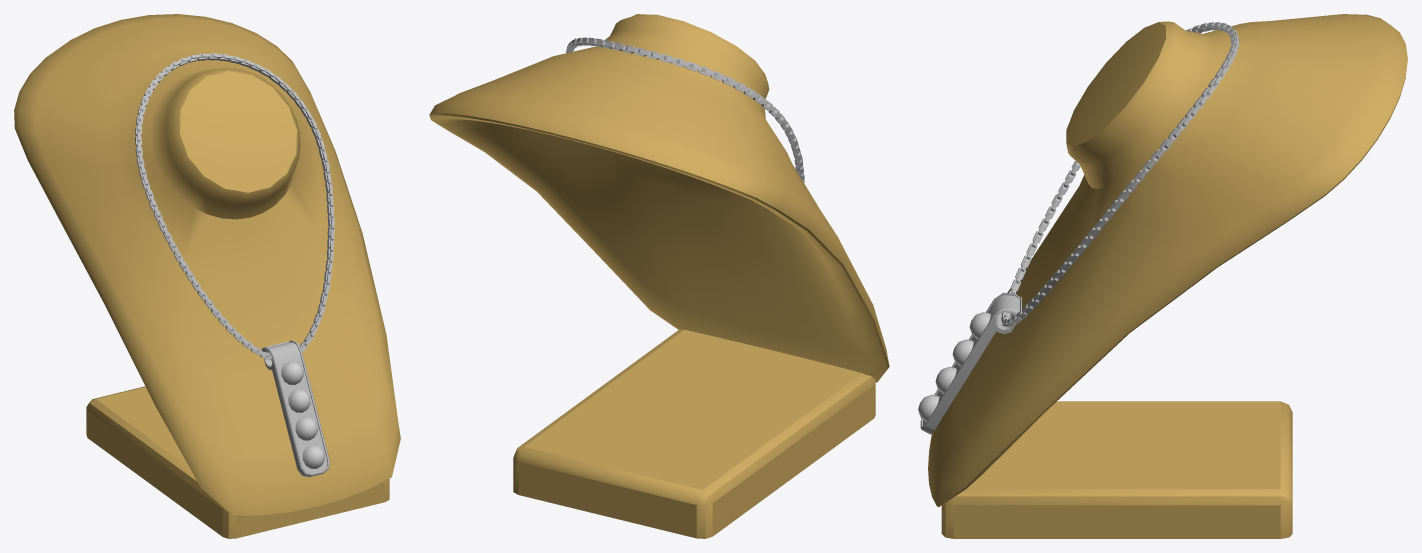
File: Necklace_16.fbx
3 renders of one model, left to right at view 1: azimuth 30°, elevation 25°; view 2: azimuth 150°, elevation 25°; view 3: azimuth 270°, elevation 25°, orthographic. The views are drawn at different scales.
Parts seen in each view (by area): view 1: SM_Stand_Necklace_11, SM_Necklace_12, SM_Cullon_4; view 2: SM_Stand_Necklace_11, SM_Necklace_12; view 3: SM_Stand_Necklace_11, SM_Necklace_12, SM_Cullon_4.
Boxes of the visible parts, box(x1,y1,x2,y2) form: SM_Stand_Necklace_11: box(14, 14, 400, 538); SM_Necklace_12: box(135, 53, 334, 361); SM_Cullon_4: box(261, 340, 329, 477); SM_Stand_Necklace_11: box(429, 14, 889, 538); SM_Necklace_12: box(566, 37, 804, 182); SM_Stand_Necklace_11: box(928, 14, 1407, 538); SM_Necklace_12: box(1001, 22, 1239, 327); SM_Cullon_4: box(918, 292, 1021, 434).
Size of the model in its own units: 22.51 by 29.29 by 28.36.
